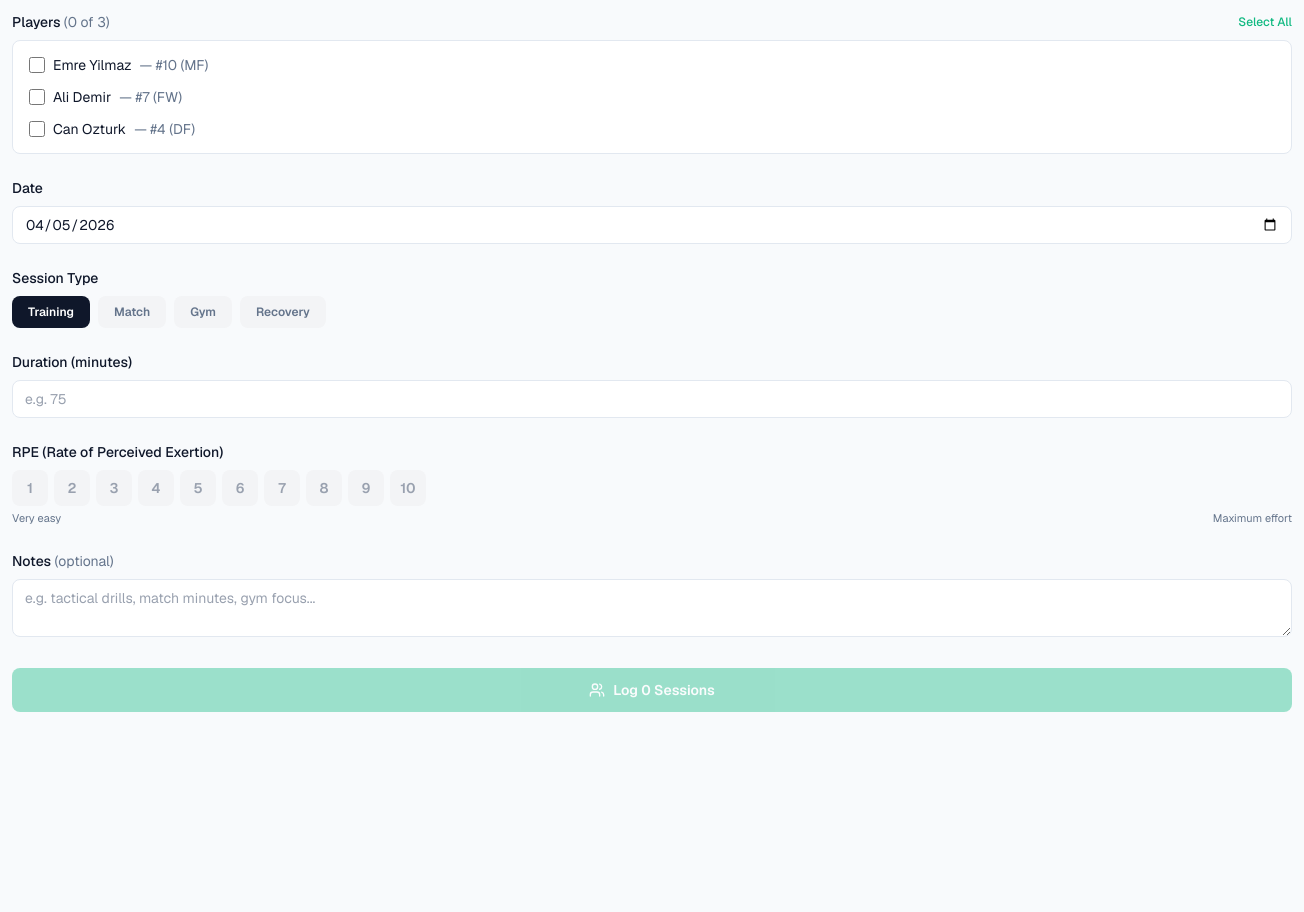
Test case: BulkSessionForm › shows success screen with count and player names
Click the checkbox labelled "Emre Yilmaz — #10 (MF)".
click(37, 65)  # box left=29, top=57, right=45, bottom=73
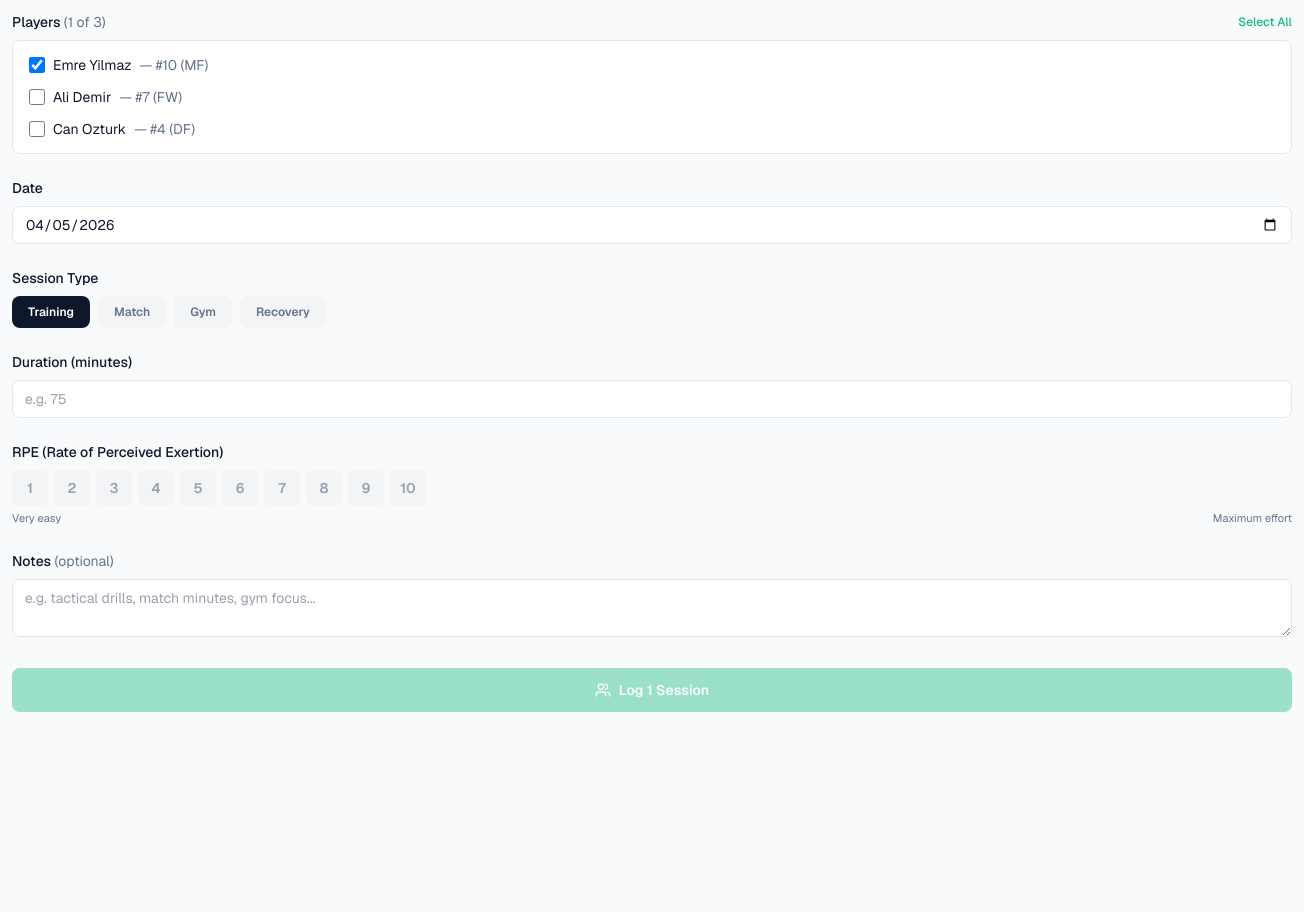
Click the checkbox labelled "Ali Demir — #7 (FW)".
click(37, 97)  # box left=29, top=89, right=45, bottom=105
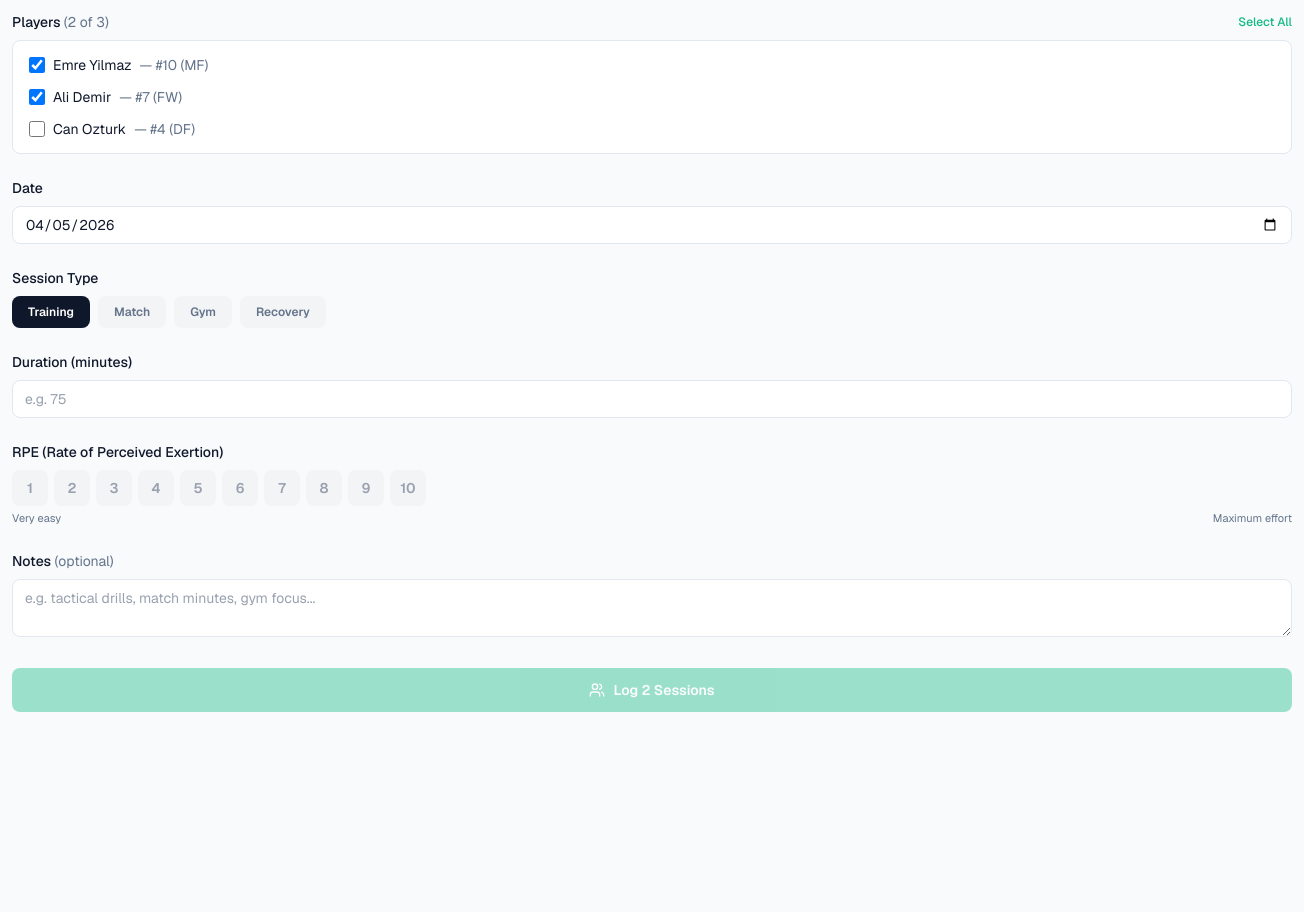
Type "75" into the number field labelled "Duration (minutes)".
click(652, 399); type("75")  # box left=12, top=380, right=1292, bottom=418
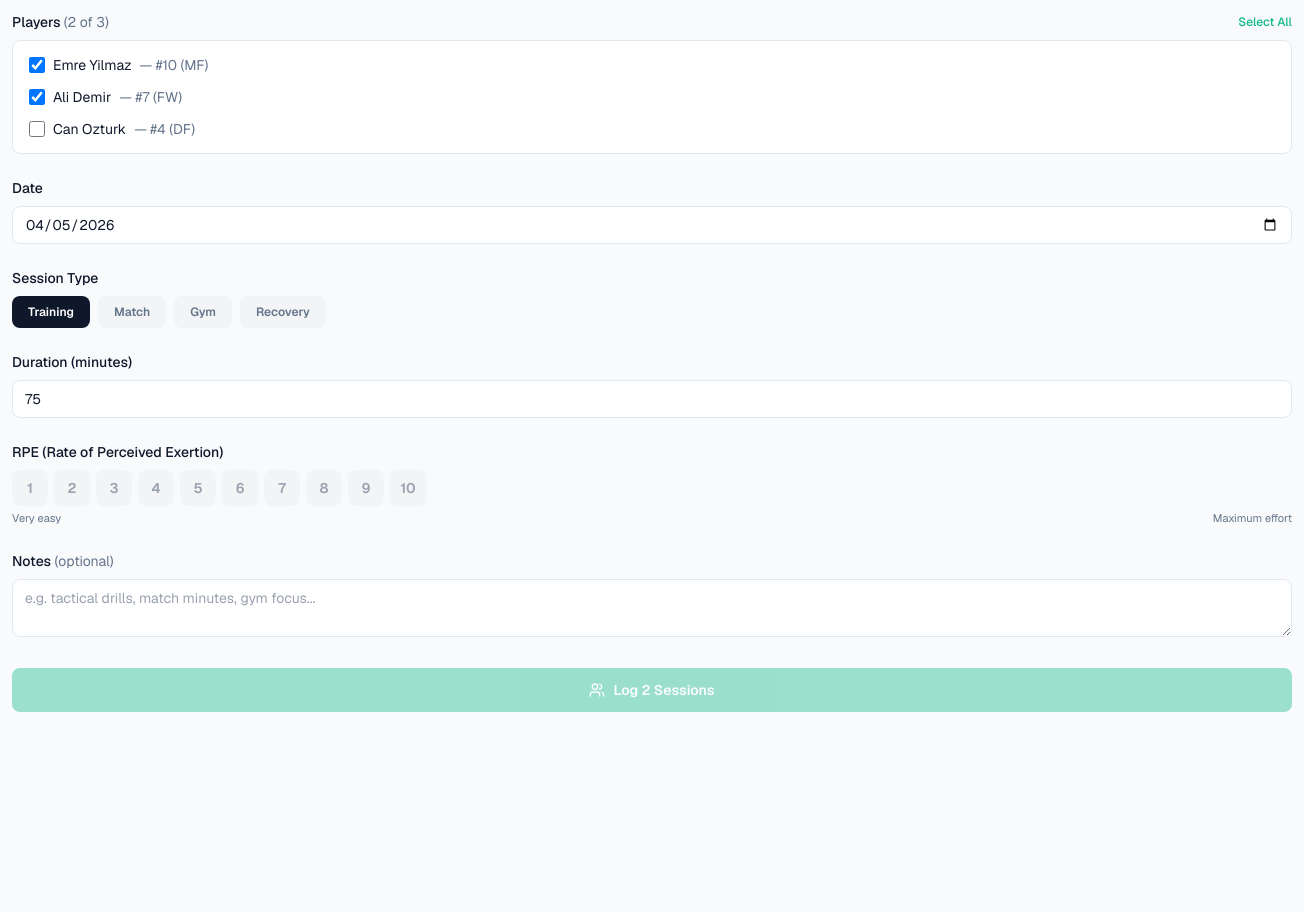
Click the button "6".
click(240, 488)  # box left=222, top=470, right=258, bottom=506
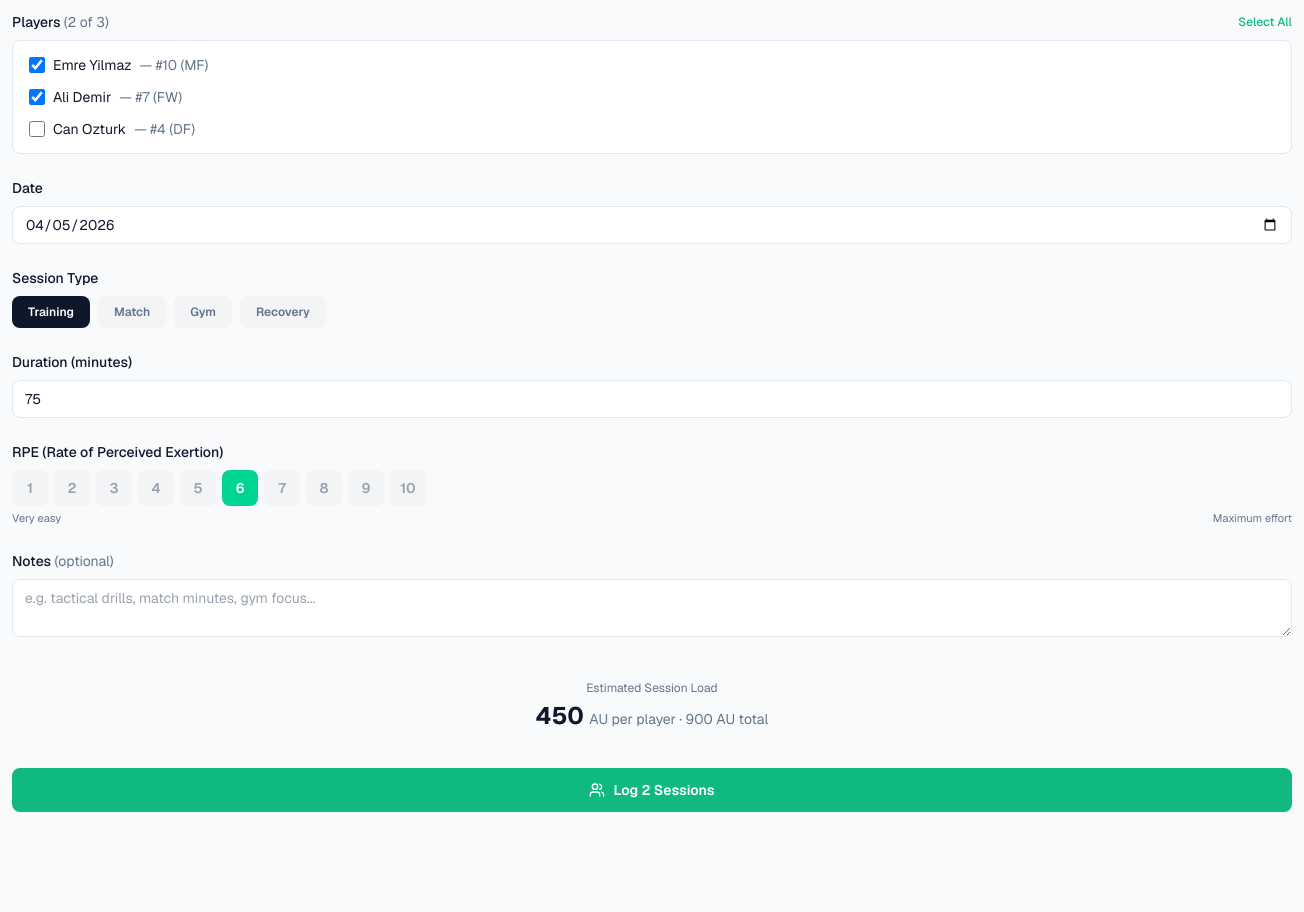
Click the button "Log 2 Sessions".
click(652, 790)  # box left=12, top=768, right=1292, bottom=812
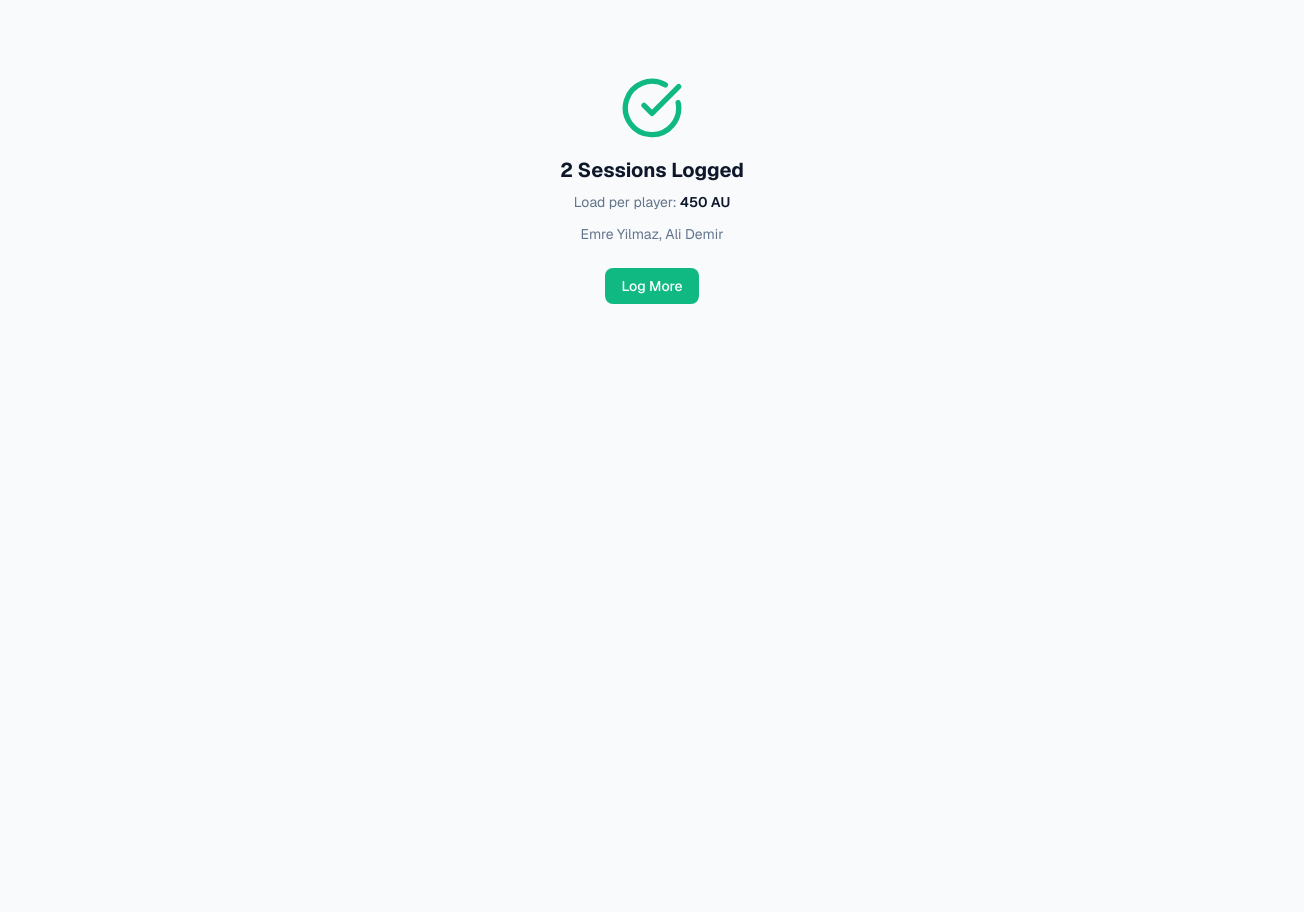
Expected: the text "450 AU" is shown, left=680, top=193, right=730, bottom=211
Expected: the heading "2 Sessions Logged" is shown, left=560, top=156, right=744, bottom=184
Expected: the text "Emre Yilmaz, Ali Demir" is shown, left=580, top=224, right=724, bottom=244
